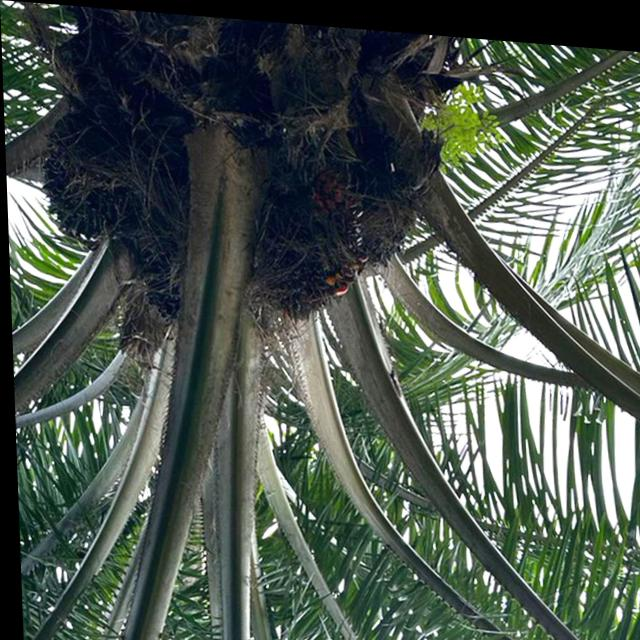ripe: (237, 158, 371, 328), (31, 102, 142, 249)
